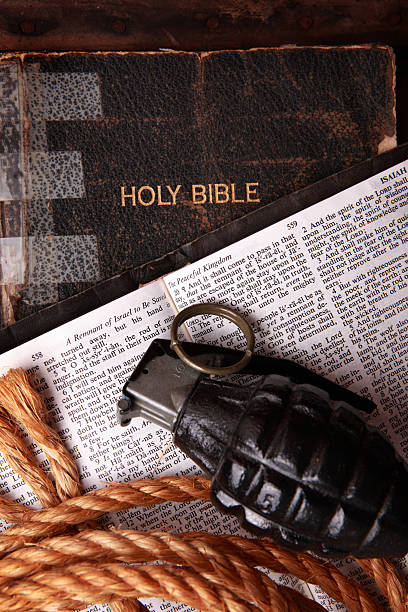e1: (115, 299, 408, 563)
